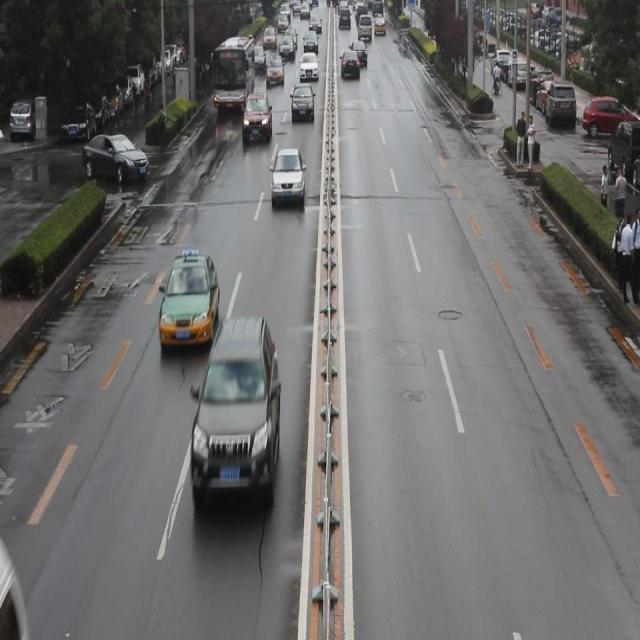car: (189, 318, 281, 504), (159, 249, 218, 346), (82, 130, 150, 185), (271, 149, 304, 203), (242, 93, 273, 140), (290, 83, 314, 120)
van: (213, 34, 254, 112)
